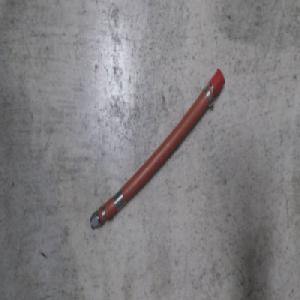Hose: (88, 66, 227, 232)
